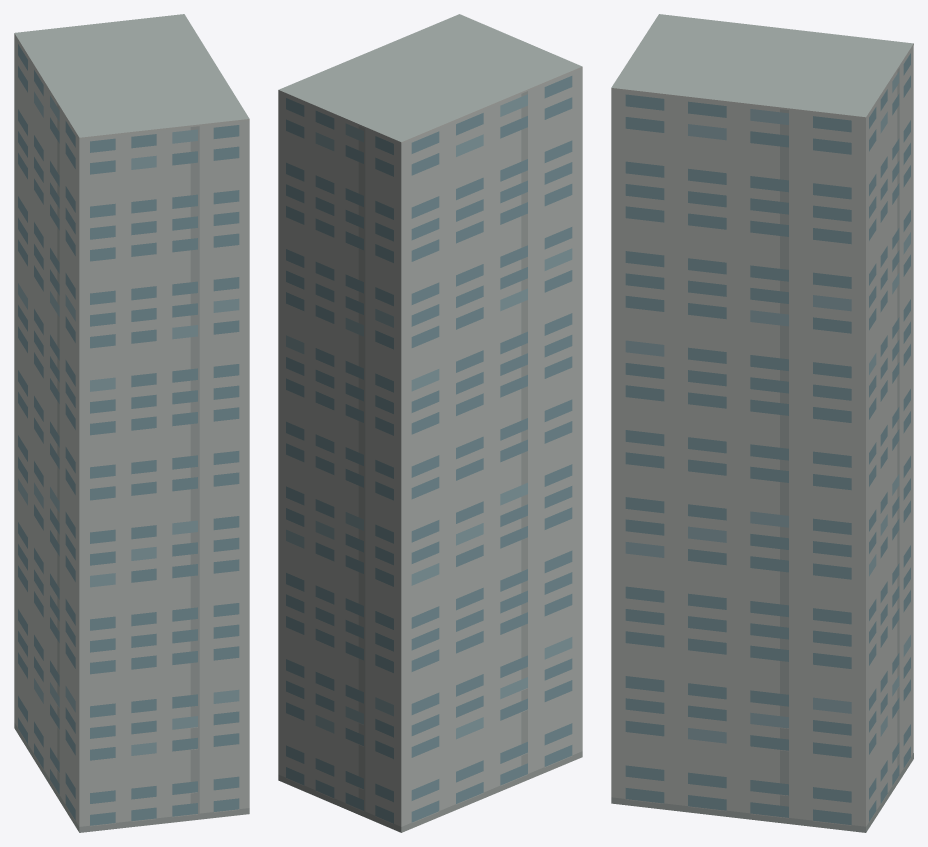
File: residential-97f49803-8378-4754-a0a4-4648af1e2331.glb
3 renders of one model, left to right at view 1: azimuth 30°, elevation 25°; view 2: azimuth 150°, elevation 25°; view 3: azimuth 270°, elevation 25°, orthographic. The views are drawn at different scales.
Parts seen in each view (by area): view 1: residential-97f49803-8378-4754-a0a4-4648af1e2331.tmp; view 2: residential-97f49803-8378-4754-a0a4-4648af1e2331.tmp; view 3: residential-97f49803-8378-4754-a0a4-4648af1e2331.tmp.
Boxes of the visible parts, left/top/right/bottom form: residential-97f49803-8378-4754-a0a4-4648af1e2331.tmp: left=14, top=14, right=249, bottom=832; residential-97f49803-8378-4754-a0a4-4648af1e2331.tmp: left=278, top=14, right=582, bottom=832; residential-97f49803-8378-4754-a0a4-4648af1e2331.tmp: left=611, top=14, right=913, bottom=832.
Bounding box in the file's own units: 30.95 × 100 × 38.33.
